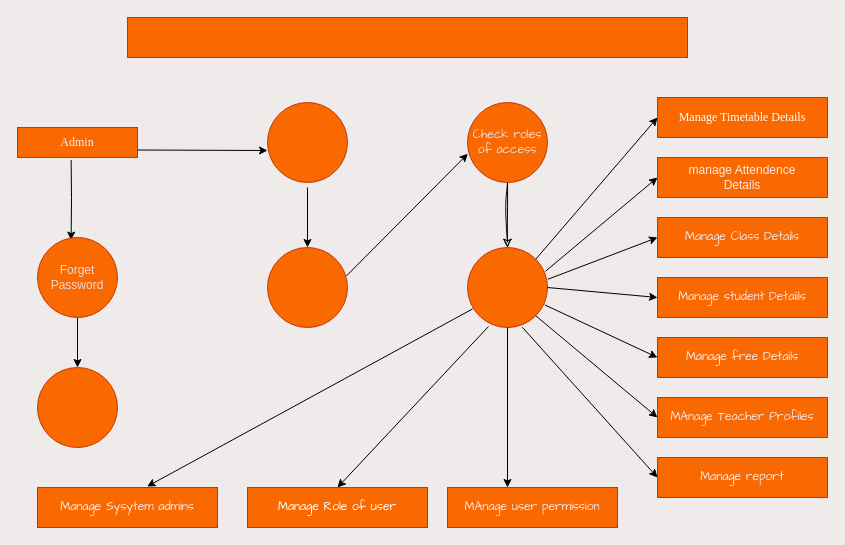
The diagram is 845 pixels wide and 545 high, and some of its shapes have lost their labels. The centre of each missing label's shape, as x and y in pixels:
Check credentials: the point at 307,287
Login to System: the point at 307,142
Manage modules: the point at 507,287
Send Email to User: the point at 77,407
Student Information System: the point at 407,37
